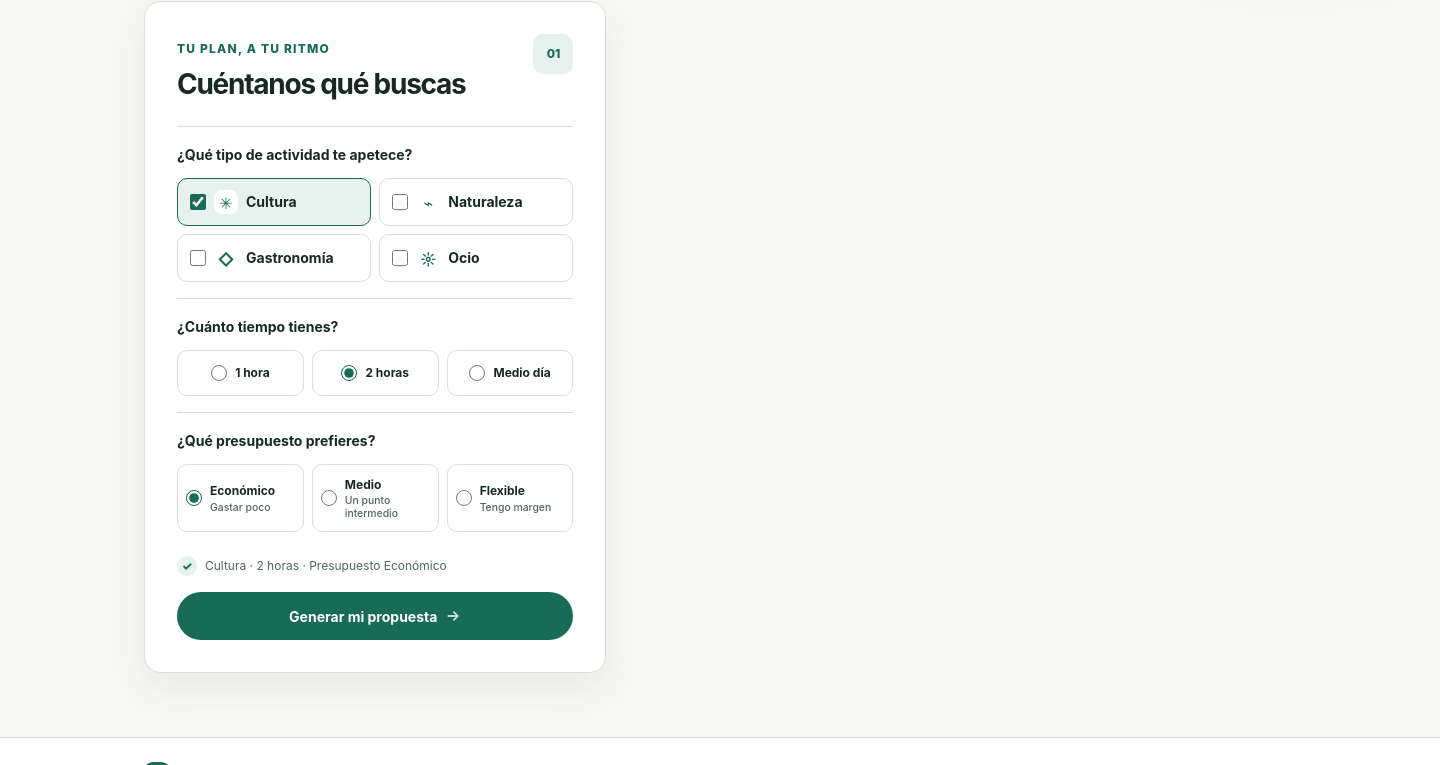
Test: DiscoverPageComponent › reports an affinity tie without selecting a winner
This screenshot has width=1440, height=765.
(page scrolled)
Click the button "Generar mi propuesta" at point(375, 616), box [177,592,574,640]
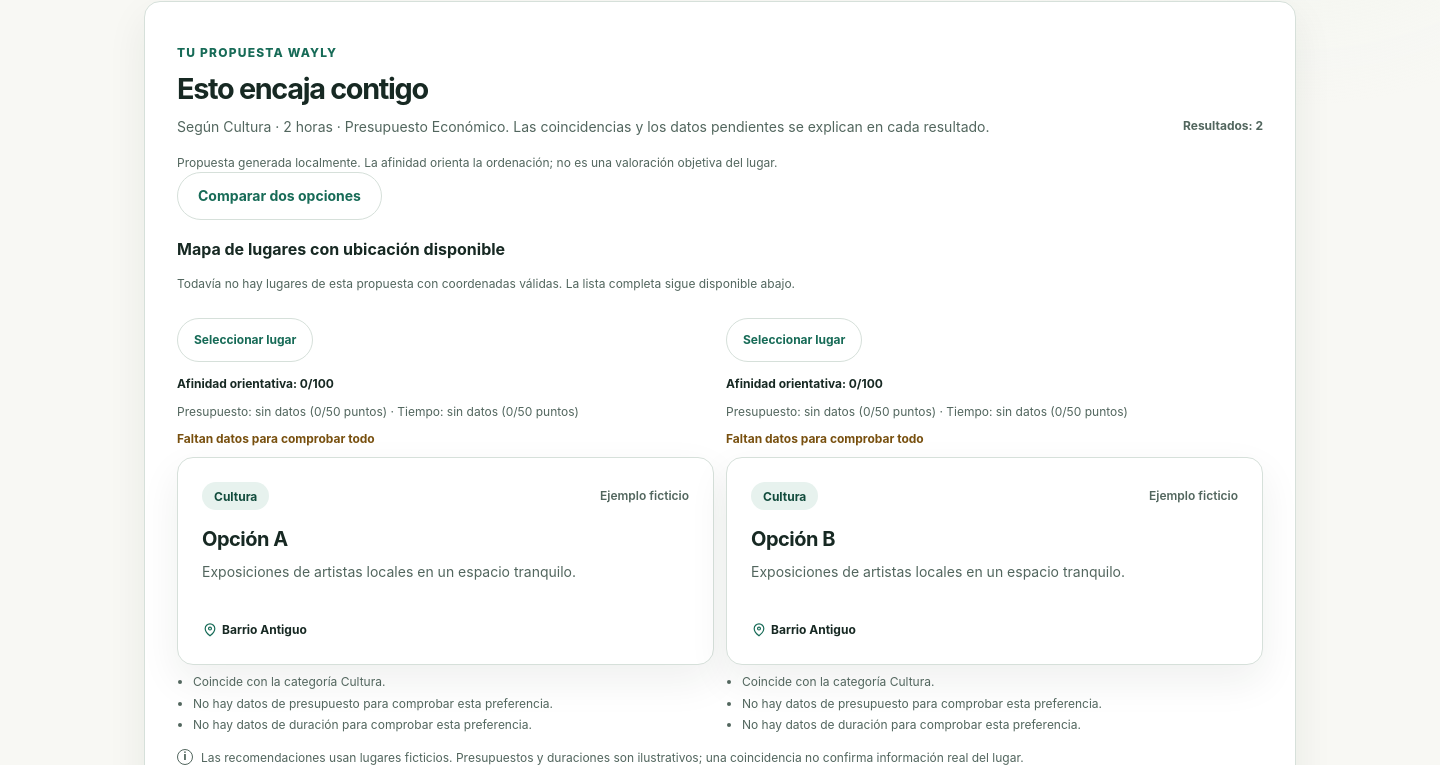
Click the button "Comparar dos opciones" at point(280, 196), box [177,172,382,220]
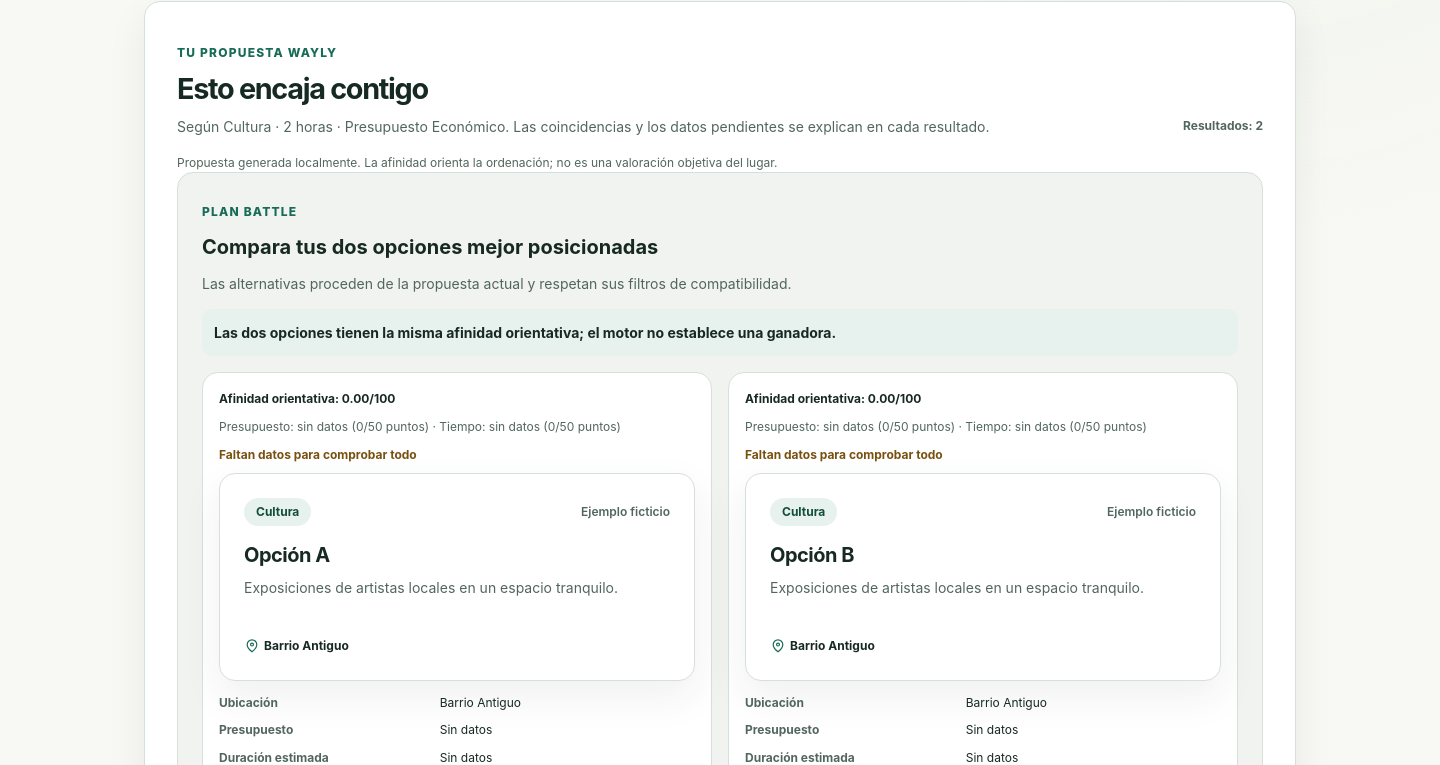
Now the 2nd message shows "misma afinidad orientativa", box [214,324,836,341]
Now the 2nd message shows "no establece una ganadora", box [214,324,836,341]
